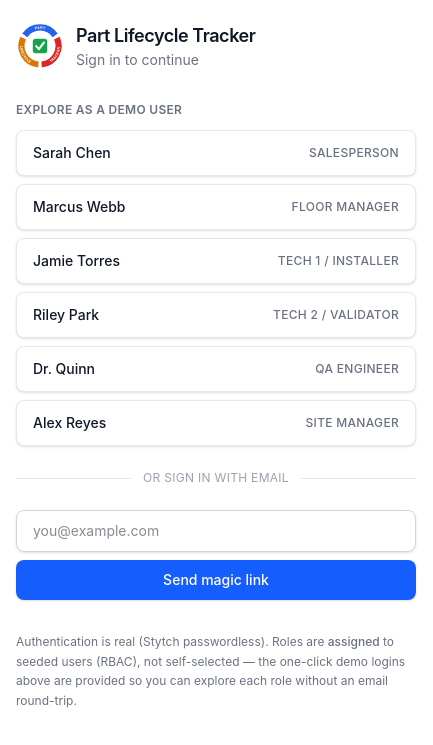
Test: Login › surfaces a demo-login failure and re-enables the buttons
The width and height of the screenshot is (433, 745).
Click the button "Dr. Quinn QA Engineer" at (64, 368), box [16,346,416,392]
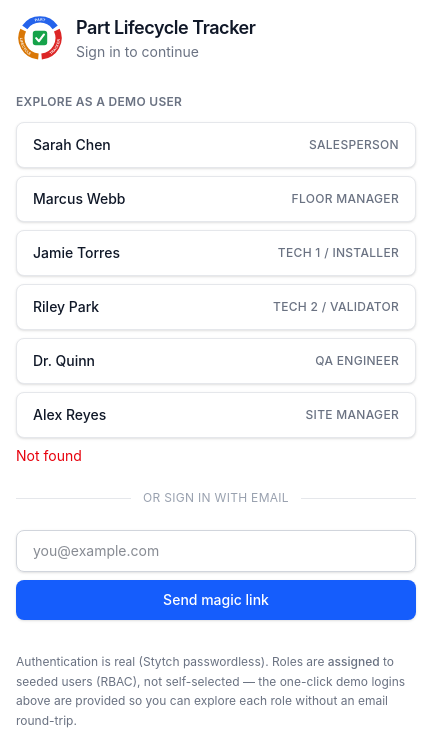
Result: the message reads "Not found" at [16,447,82,464]
